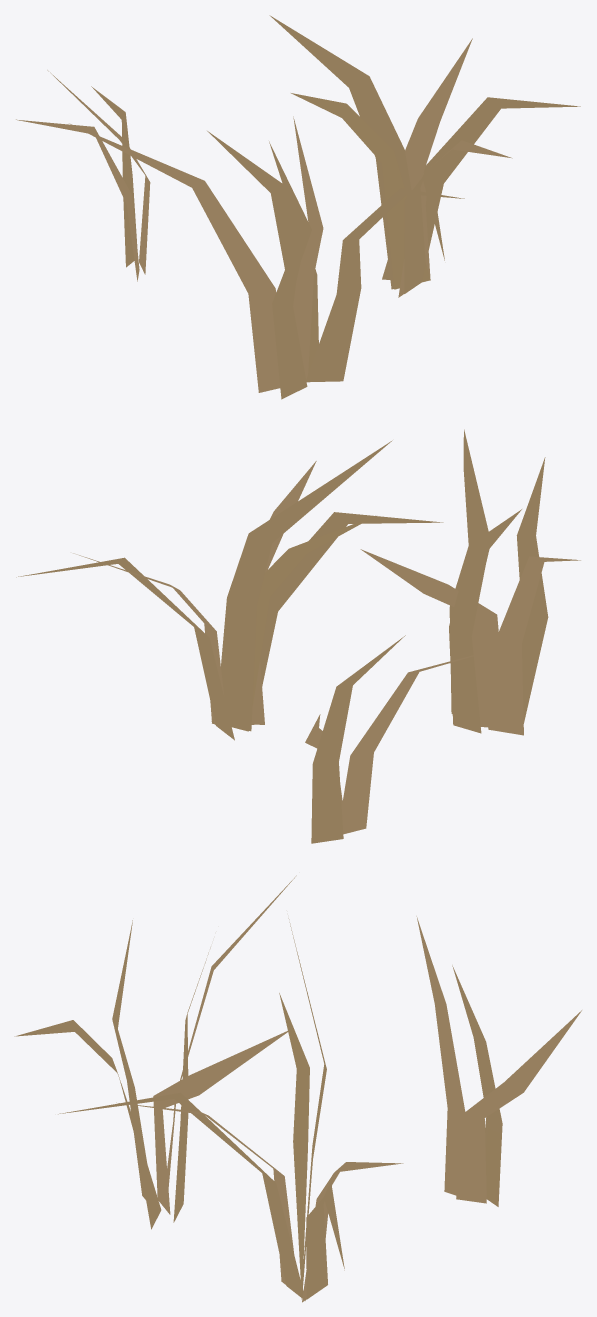
The model's file is Grass_e_OneS_05.fbx.
3 renders of one model, top to bottom at view 1: azimuth 30°, elevation 25°; view 2: azimuth 150°, elevation 25°; view 3: azimuth 270°, elevation 25°, orthographic.
Visible parts, largest first — view 1: Grass_e_OneS_05; view 2: Grass_e_OneS_05; view 3: Grass_e_OneS_05.
Boxes of the visible parts, bbox=[...] form: Grass_e_OneS_05: bbox=[16, 15, 580, 399]; Grass_e_OneS_05: bbox=[16, 429, 580, 843]; Grass_e_OneS_05: bbox=[14, 875, 581, 1302].
Bounding box in the file's own units: 1.07 × 0.6105 × 0.9701.
